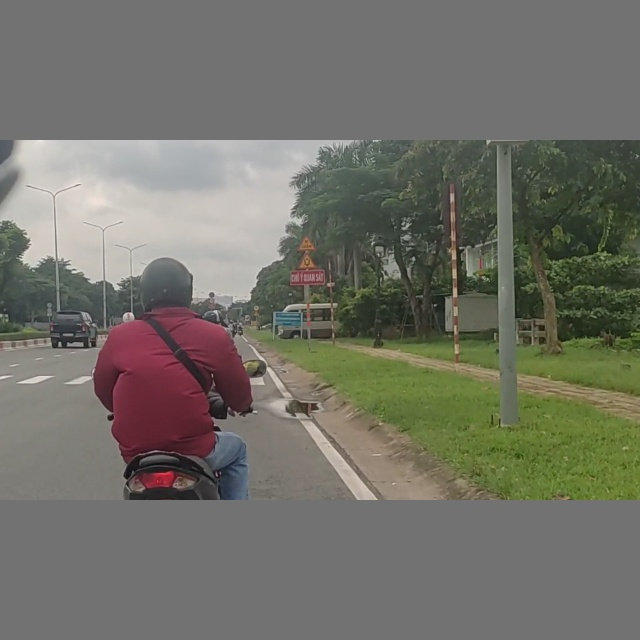P.130: (209, 292, 216, 298)
W.245a: (297, 235, 316, 251)
W.246a: (297, 253, 319, 269)
